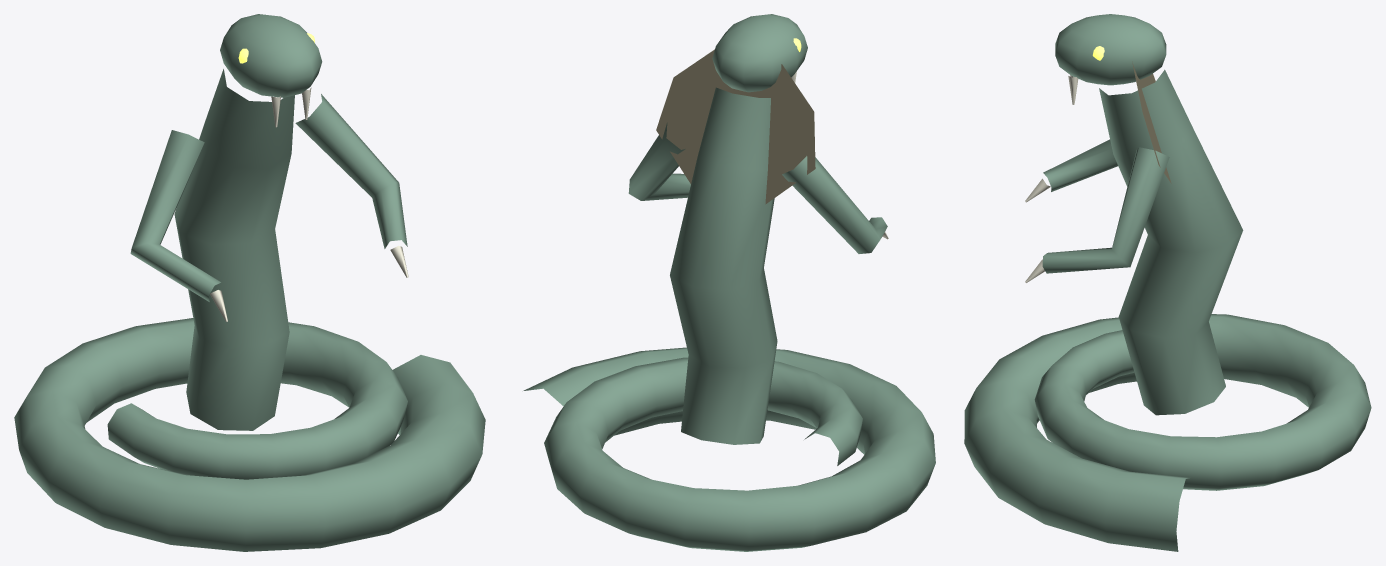
The model's file is naga.glb.
The picture shows the model from 3 angles, left to right: view 1: azimuth 30°, elevation 25°; view 2: azimuth 150°, elevation 25°; view 3: azimuth 270°, elevation 25°; orthographic projection. The views are drawn at different scales.
Bounding box in the file's own units: 0.8397 × 0.93 × 0.7671.
